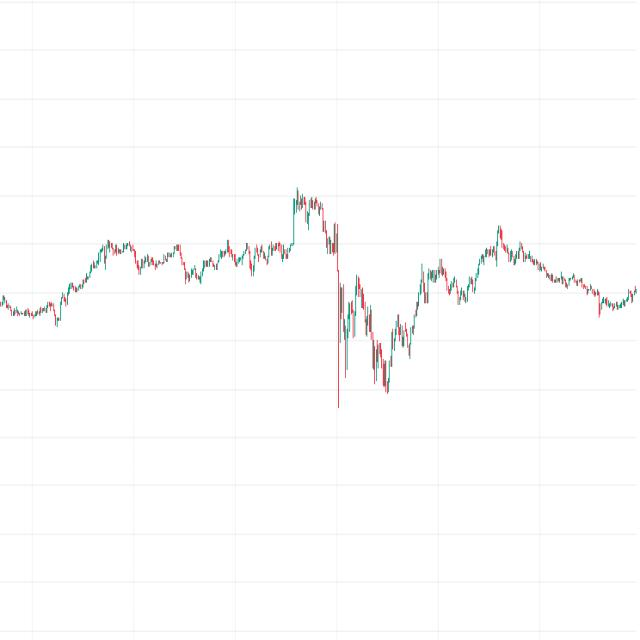Rising-Wedge: (342, 217, 522, 413)
